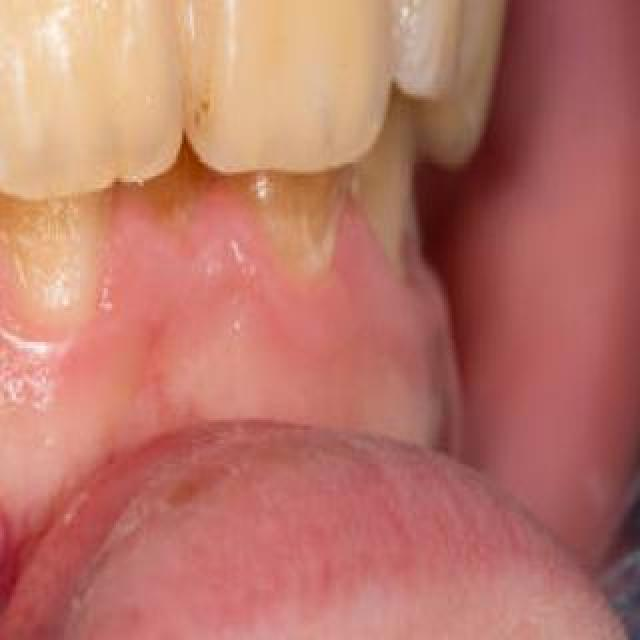plaque: (0, 0, 158, 174), (190, 0, 384, 134), (0, 172, 110, 318), (350, 113, 426, 259), (267, 150, 337, 292), (466, 0, 540, 98), (404, 0, 476, 84)
